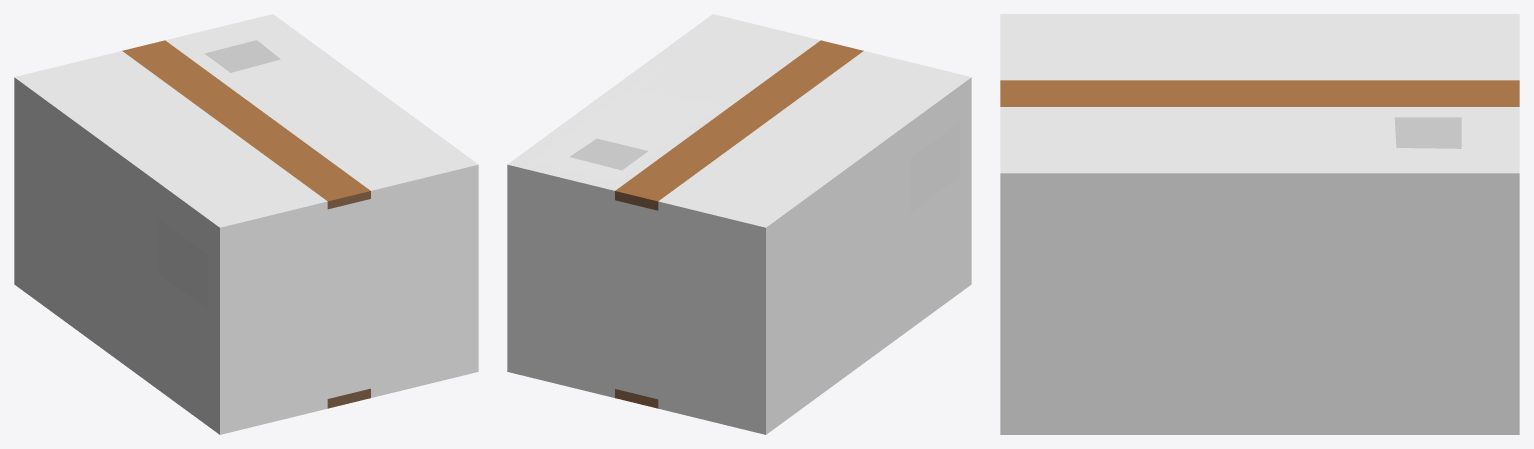
The model's file is Cs_Med_Wht.fbx.
3 renders of one model, left to right at view 1: azimuth 30°, elevation 25°; view 2: azimuth 150°, elevation 25°; view 3: azimuth 270°, elevation 25°, orthographic. The views are drawn at different scales.
Parts seen in each view (by area): view 1: Cs_Med_Wht; view 2: Cs_Med_Wht; view 3: Cs_Med_Wht.
Boxes of the visible parts, x1,y1,x2,y2 form: Cs_Med_Wht: (14, 14, 478, 434); Cs_Med_Wht: (507, 14, 971, 434); Cs_Med_Wht: (1000, 14, 1519, 434).
Size of the model in its own units: 0.3268 by 0.45 by 0.2504.
